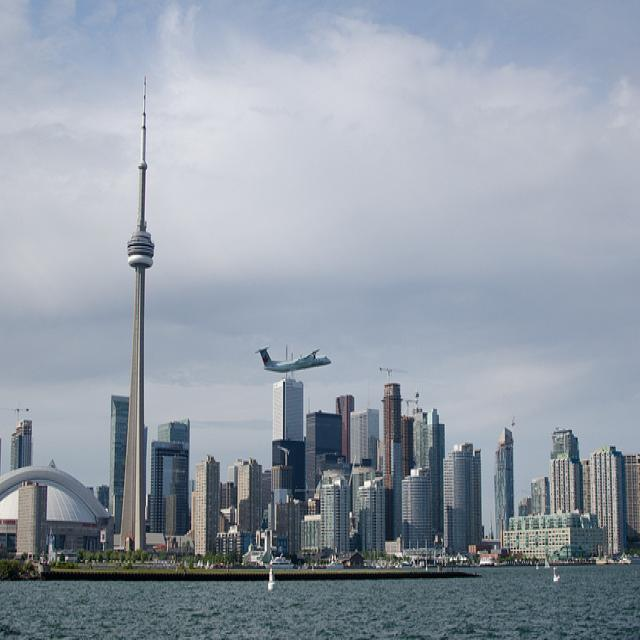airplane: (254, 344, 333, 374)
